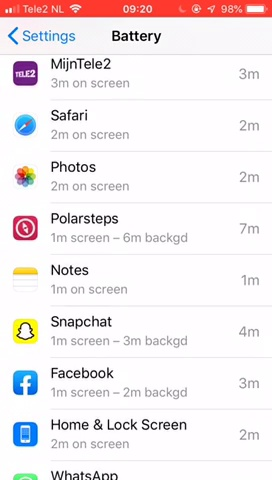app: (11, 105, 266, 142), (13, 159, 268, 196), (13, 209, 268, 246), (11, 261, 266, 298), (9, 313, 264, 350), (12, 367, 267, 404), (8, 417, 263, 454)
